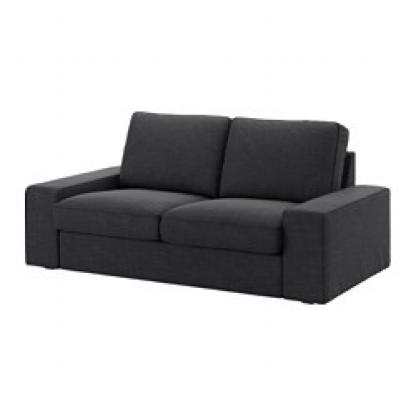Sofa: (18, 96, 391, 308)
